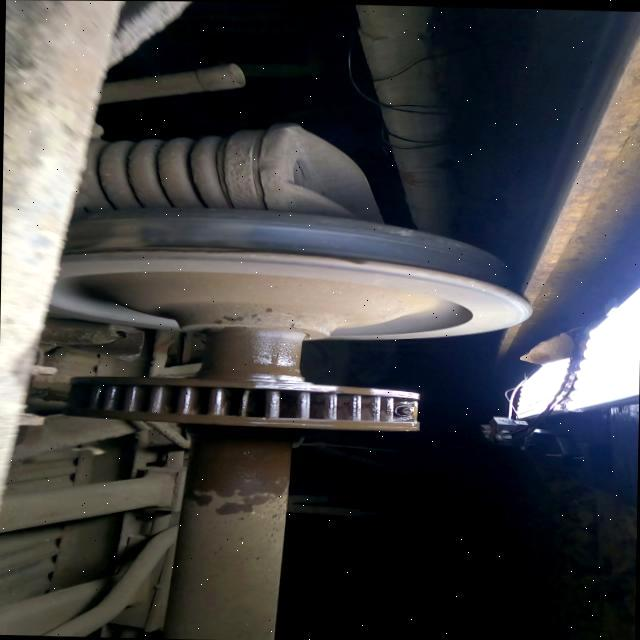Cracks-Scratches: (376, 224, 413, 235)
Shelling: (186, 213, 258, 244), (95, 217, 144, 246)
Wheel: (52, 206, 531, 339)
